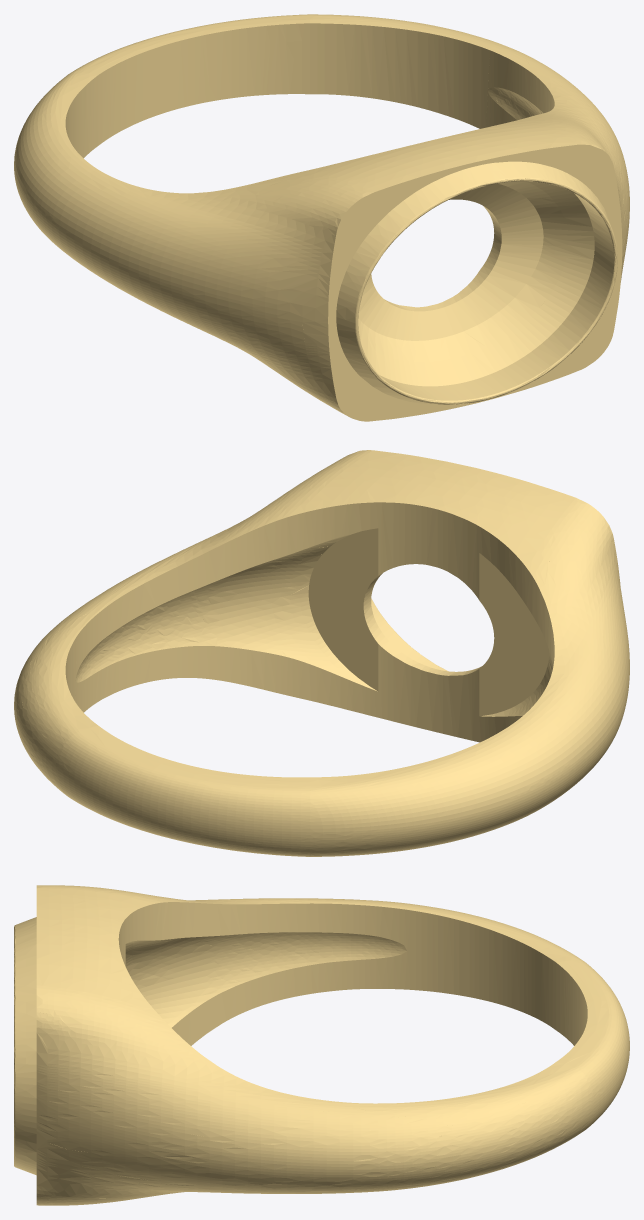
File: signet-ring.glb
3 views of the same model, one above another, from view 1: azimuth 30°, elevation 25°; view 2: azimuth 150°, elevation 25°; view 3: azimuth 270°, elevation 25° (orthographic). The views are drawn at different scales.
Parts seen in each view (by area): view 1: Metal Yellow Gold; view 2: Metal Yellow Gold; view 3: Metal Yellow Gold.
Part boxes in pixels (bbox=[...]): Metal Yellow Gold: bbox=[14, 14, 629, 421]; Metal Yellow Gold: bbox=[14, 450, 629, 856]; Metal Yellow Gold: bbox=[14, 885, 629, 1205].
Bounding box in the file's own units: 24.42 × 10.9 × 26.29.
